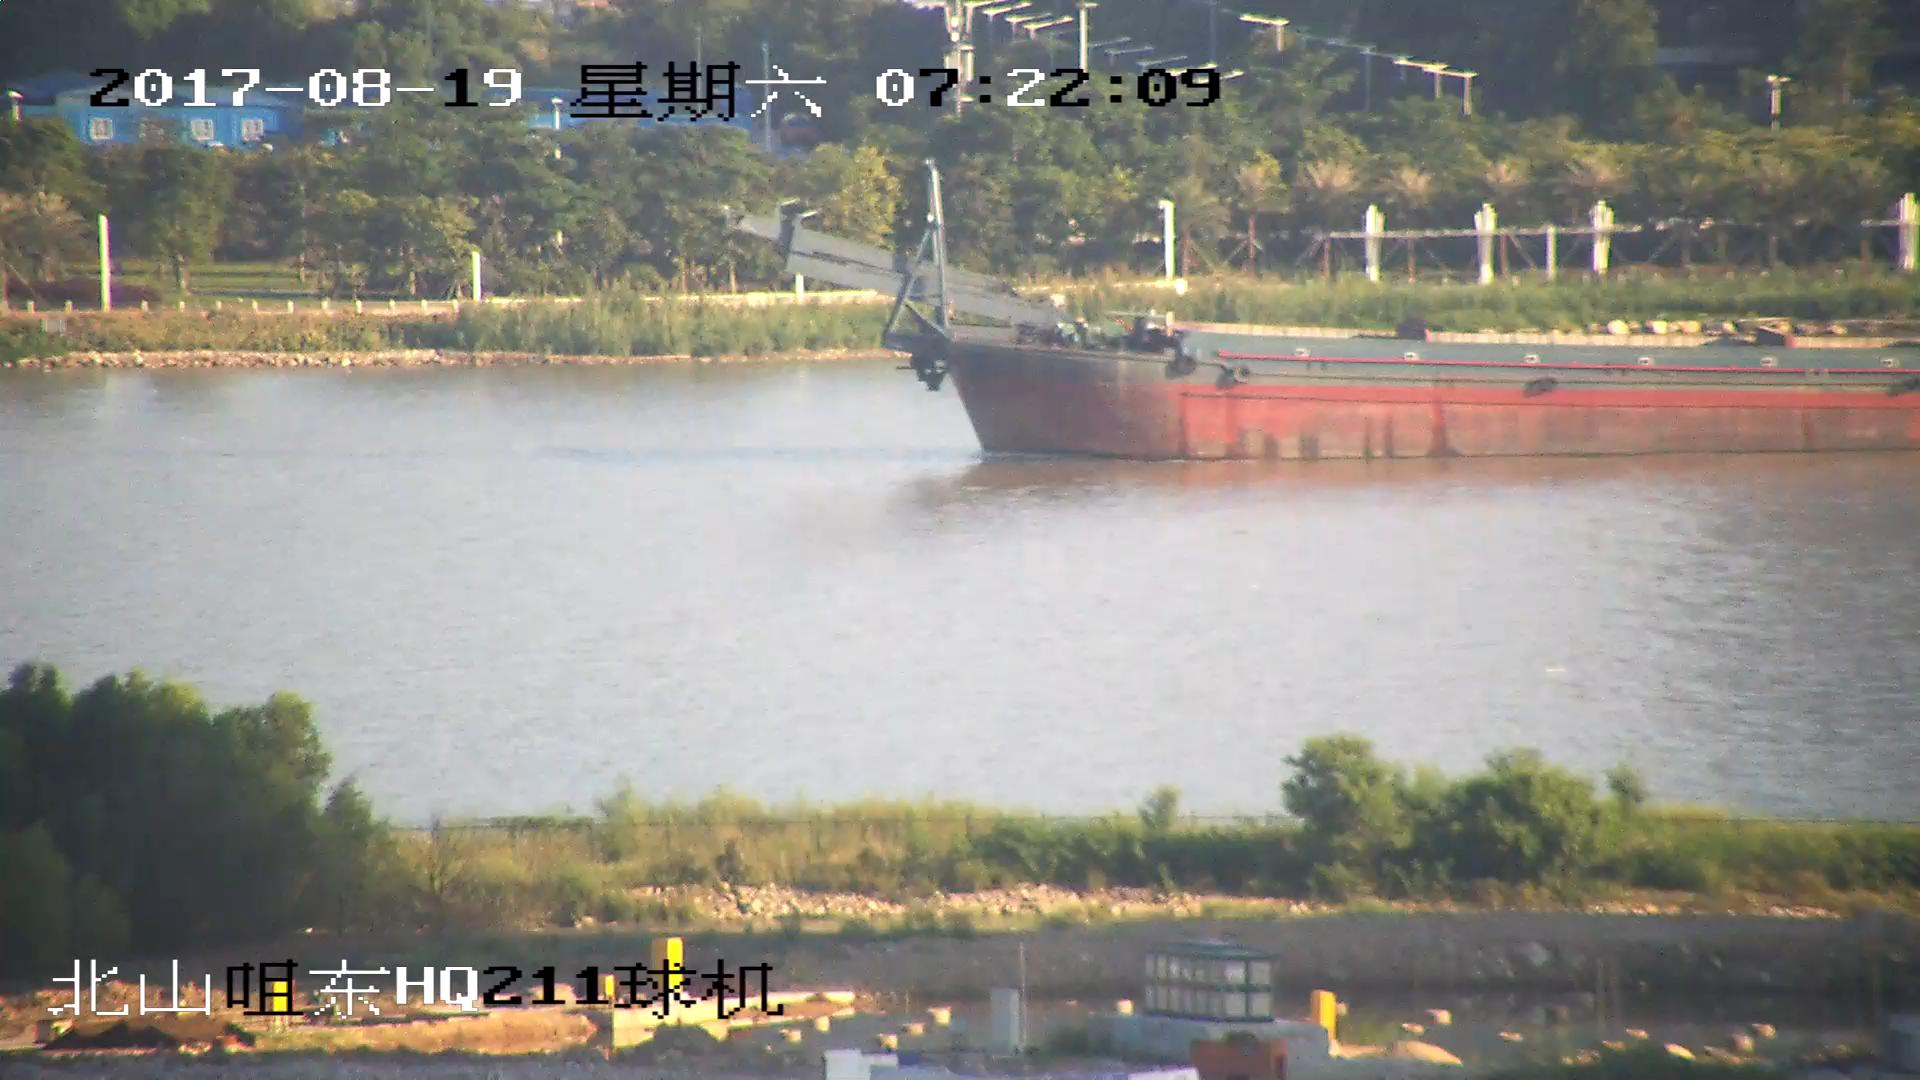bulk cargo carrier: (735, 162, 1920, 460)
